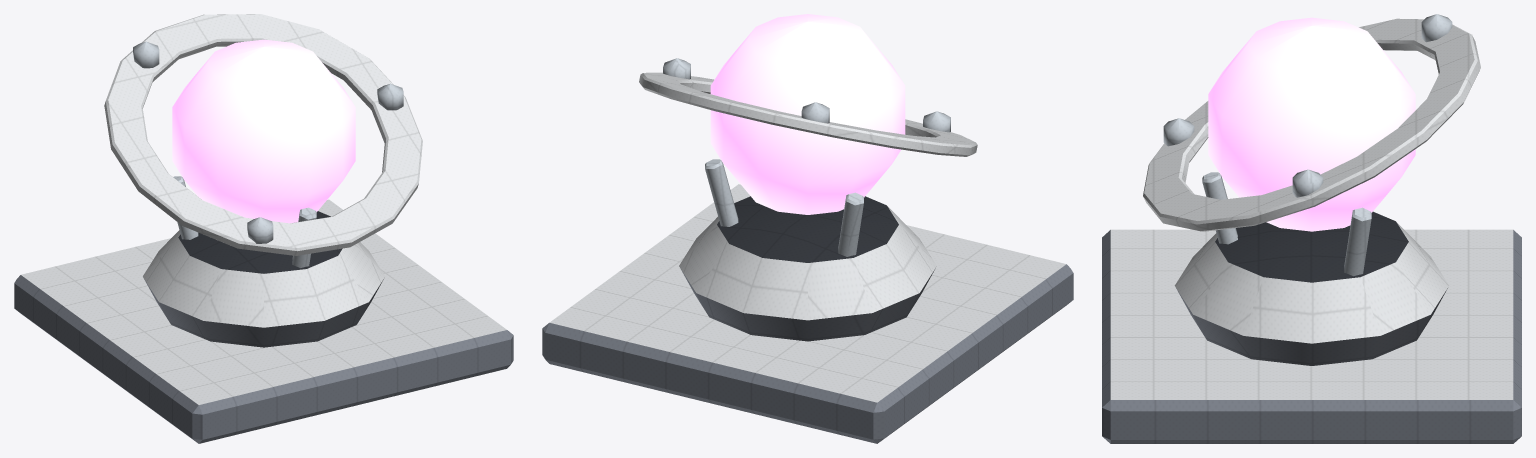
Rendered from R4X_OrbAmplifier_LOD1.glb.
3 views of the same model, side by side, from view 1: azimuth 30°, elevation 25°; view 2: azimuth 150°, elevation 25°; view 3: azimuth 270°, elevation 25° (orthographic). The views are drawn at different scales.
Parts seen in each view (by area): view 1: R4X_OrbAmplifier_LOD1; view 2: R4X_OrbAmplifier_LOD1; view 3: R4X_OrbAmplifier_LOD1.
Part boxes in pixels (x1=…): R4X_OrbAmplifier_LOD1: x1=14, y1=14, x2=513, y2=443; R4X_OrbAmplifier_LOD1: x1=542, y1=14, x2=1073, y2=443; R4X_OrbAmplifier_LOD1: x1=1102, y1=14, x2=1521, y2=443.
Bounding box in the file's own units: 0.52 × 0.455 × 0.52.
Materials: 5 (4 with a texture image).
